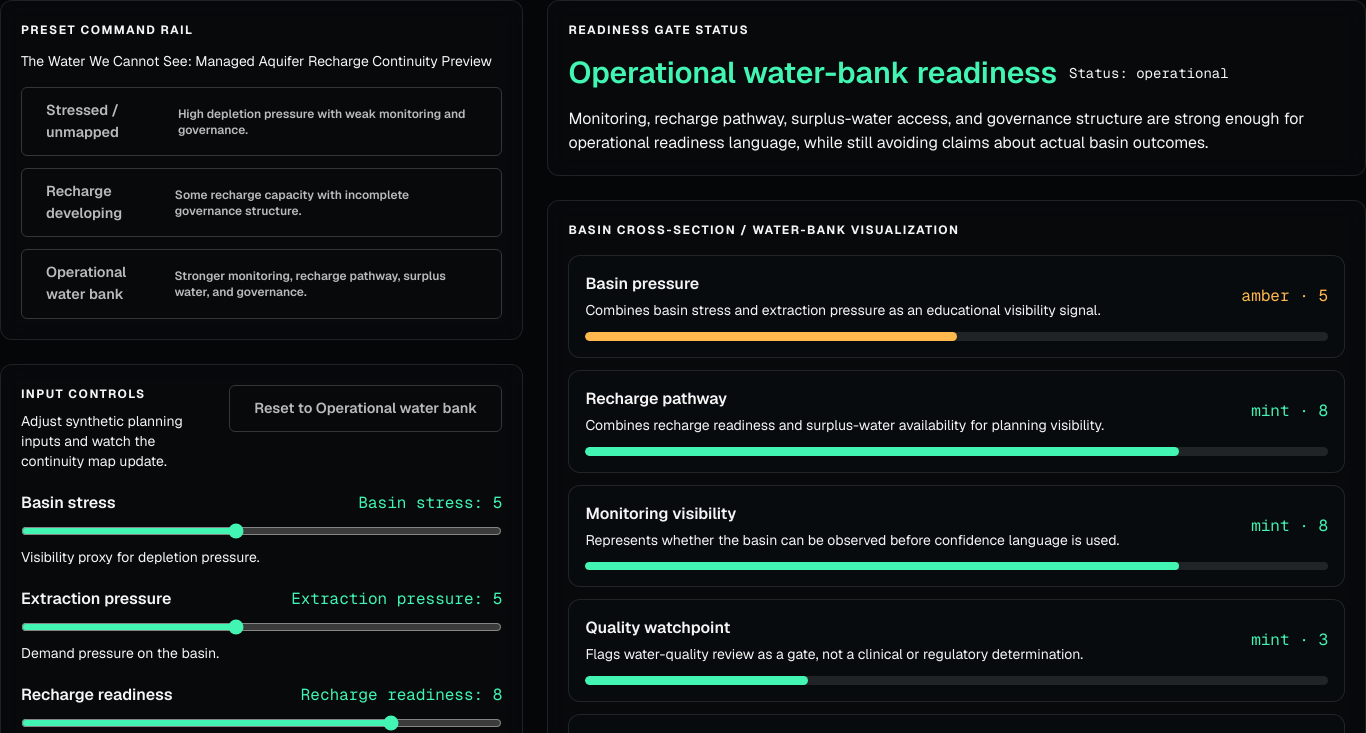
Scenario: WaterBankingPreview › switches presets, changes controls and derived outputs, then resets to the active preset
Click the button "Stressed / unmapped" at coordinates (262, 122), box top-left (21, 87), bottom-right (502, 156)
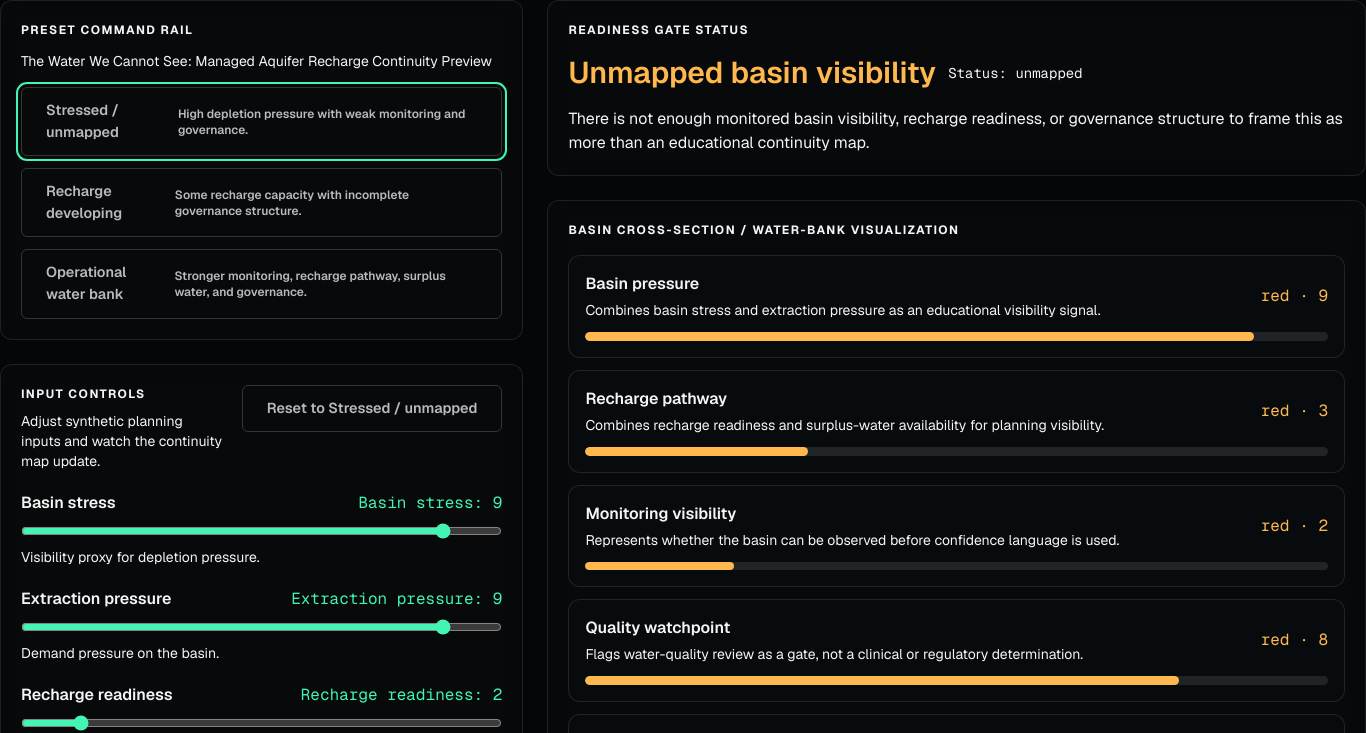
Result: the slider labelled "Basin stress" holds "9"
Result: the text "Unmapped basin visibility" is shown at top-left (568, 55), bottom-right (936, 91)
Result: the text "not enough monitored basin visibility" is shown at top-left (568, 108), bottom-right (1343, 153)
Set the slider labelled "Basin stress" to "4" at coordinates (184, 531), box top-left (21, 523), bottom-right (502, 539)
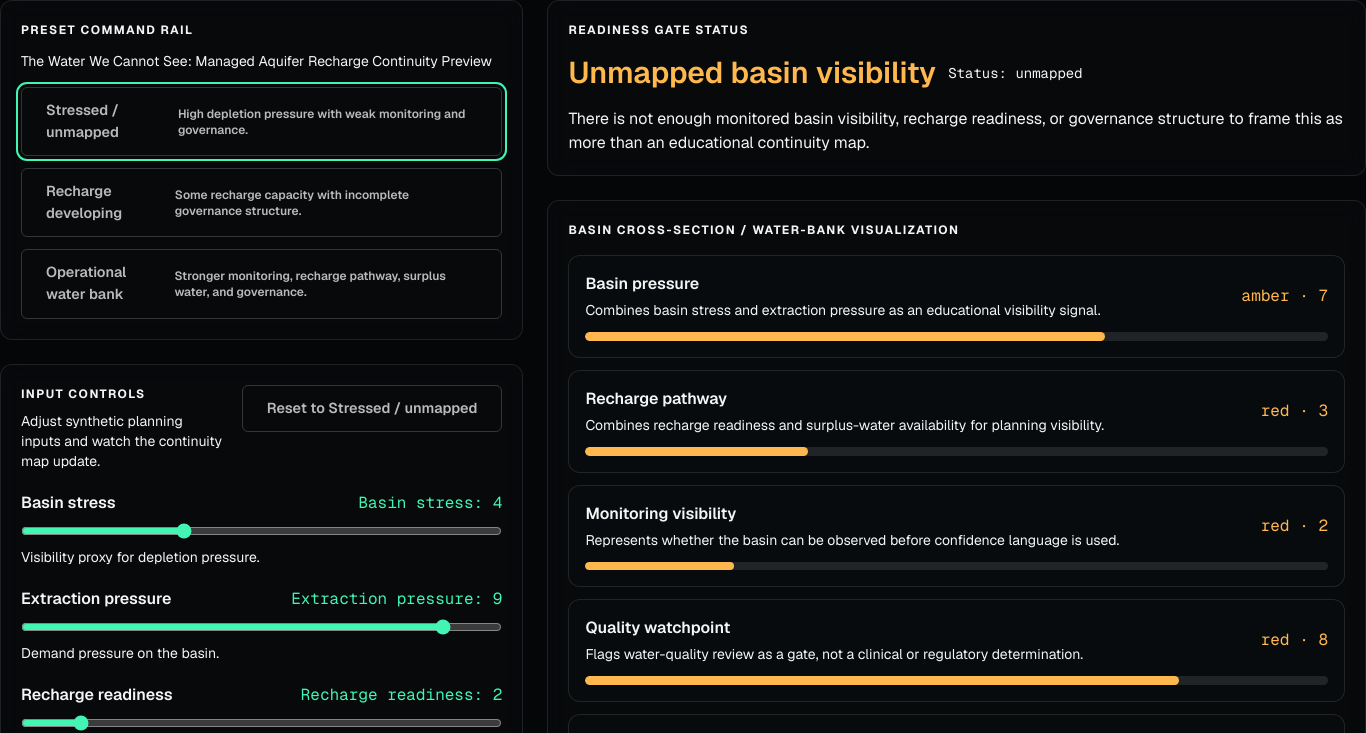
Result: the text "Basin stress: 4" is shown at top-left (358, 491), bottom-right (502, 515)
Click the button "Reset to Stressed / unmapped" at coordinates (372, 408), box top-left (242, 385), bottom-right (502, 432)
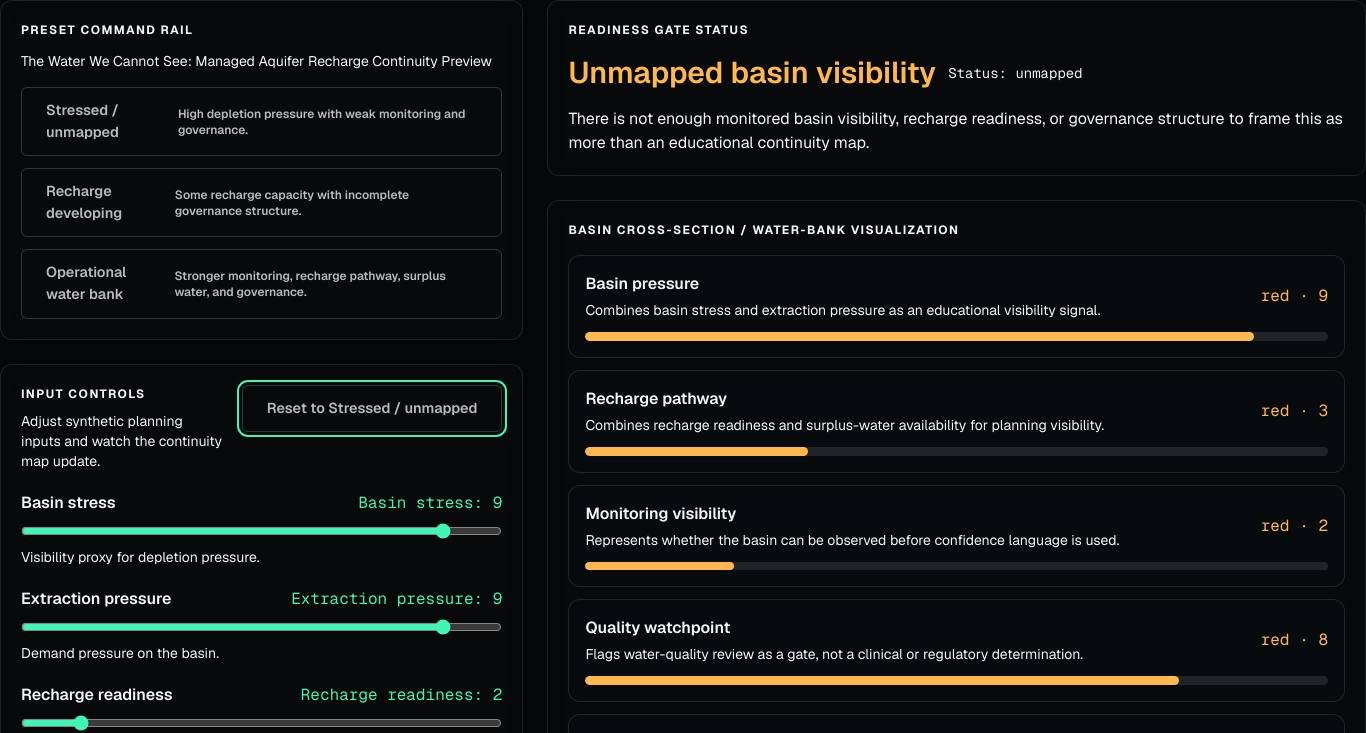
Result: the slider labelled "Basin stress" holds "9" at top-left (21, 523), bottom-right (502, 539)
Result: the text "Basin stress: 9" is shown at top-left (358, 491), bottom-right (502, 515)
